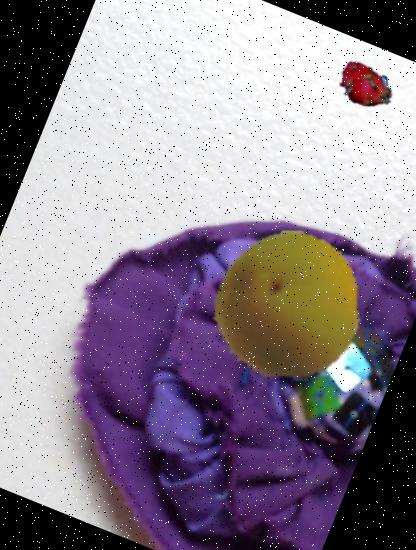Peach: (188, 208, 383, 402)
Pitahaya: (326, 47, 404, 125)
